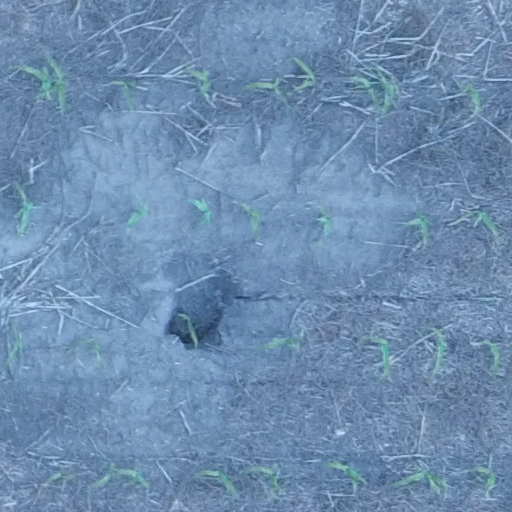planta: (38, 57, 69, 111), (446, 211, 499, 235), (17, 64, 50, 100), (353, 75, 383, 114), (323, 459, 365, 486), (392, 471, 448, 490), (200, 468, 238, 495), (427, 326, 447, 377), (248, 464, 281, 493), (72, 337, 104, 364), (370, 335, 391, 375), (377, 70, 395, 115), (110, 79, 136, 110), (293, 55, 317, 88), (185, 68, 211, 97), (16, 186, 32, 233), (244, 77, 282, 96), (7, 324, 24, 364), (258, 337, 301, 352), (189, 197, 212, 224), (408, 214, 428, 244), (180, 313, 199, 344), (127, 202, 149, 228), (244, 204, 261, 237), (117, 468, 148, 486), (486, 341, 502, 375), (465, 84, 480, 117), (476, 466, 497, 488), (95, 464, 116, 486), (318, 207, 332, 233)
